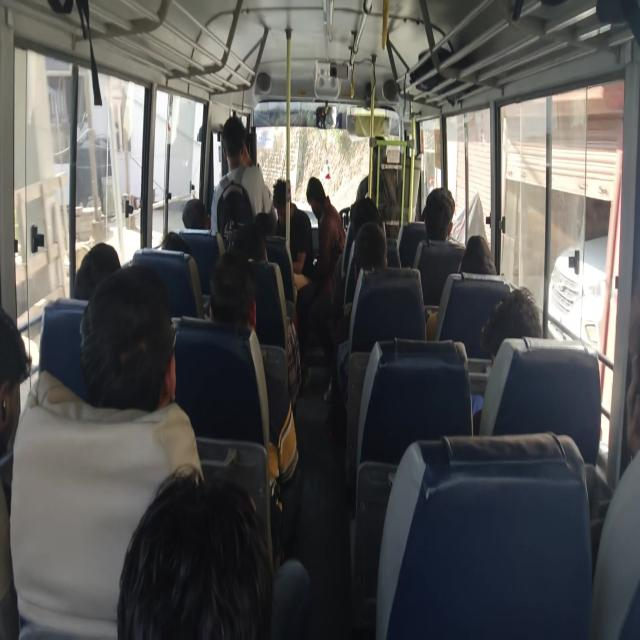person: (88, 300, 212, 437), (146, 506, 233, 640), (0, 324, 52, 459), (74, 235, 134, 292), (211, 264, 260, 328), (490, 290, 536, 348), (465, 231, 509, 287), (223, 126, 257, 188), (422, 190, 467, 228), (361, 228, 398, 270), (178, 195, 215, 234), (238, 224, 276, 260), (270, 182, 310, 209), (154, 228, 182, 266), (310, 173, 337, 208), (352, 190, 378, 225), (252, 213, 275, 237)
